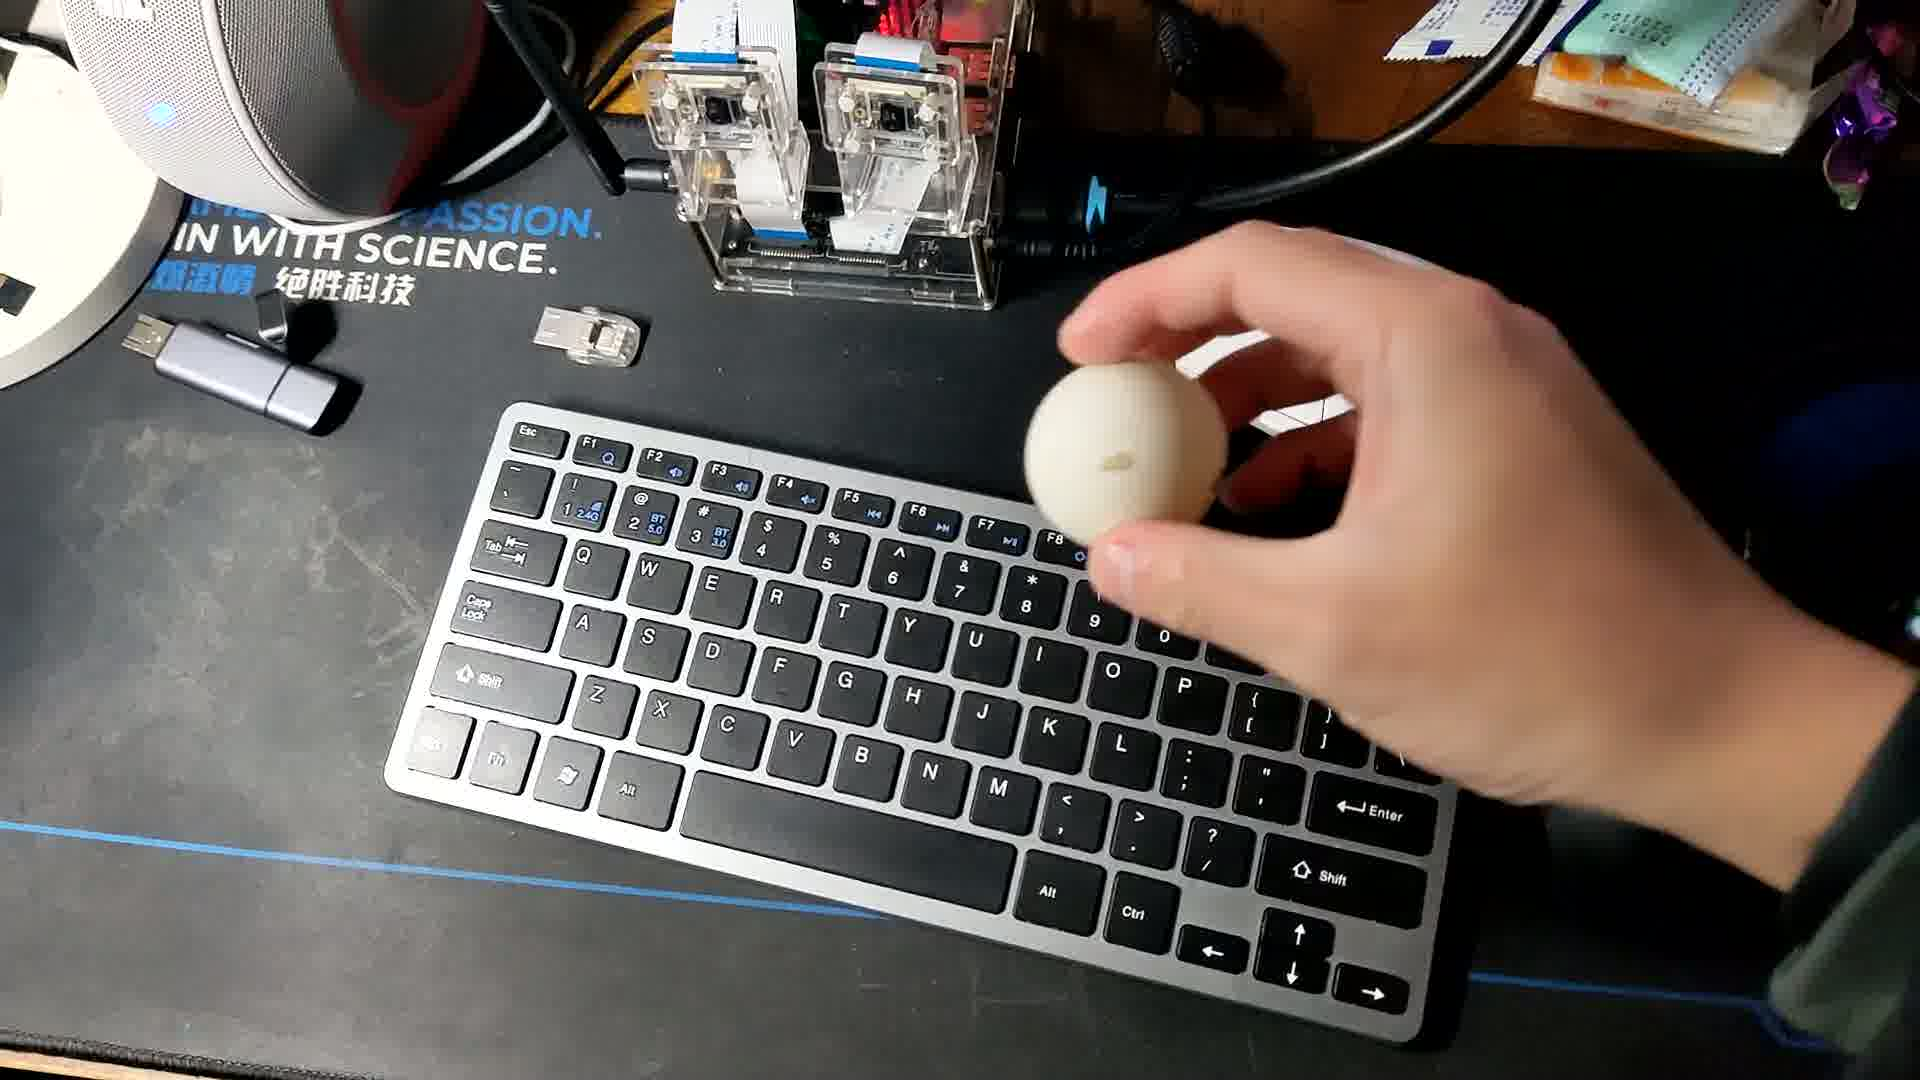Ball: (1027, 359, 1221, 556)
